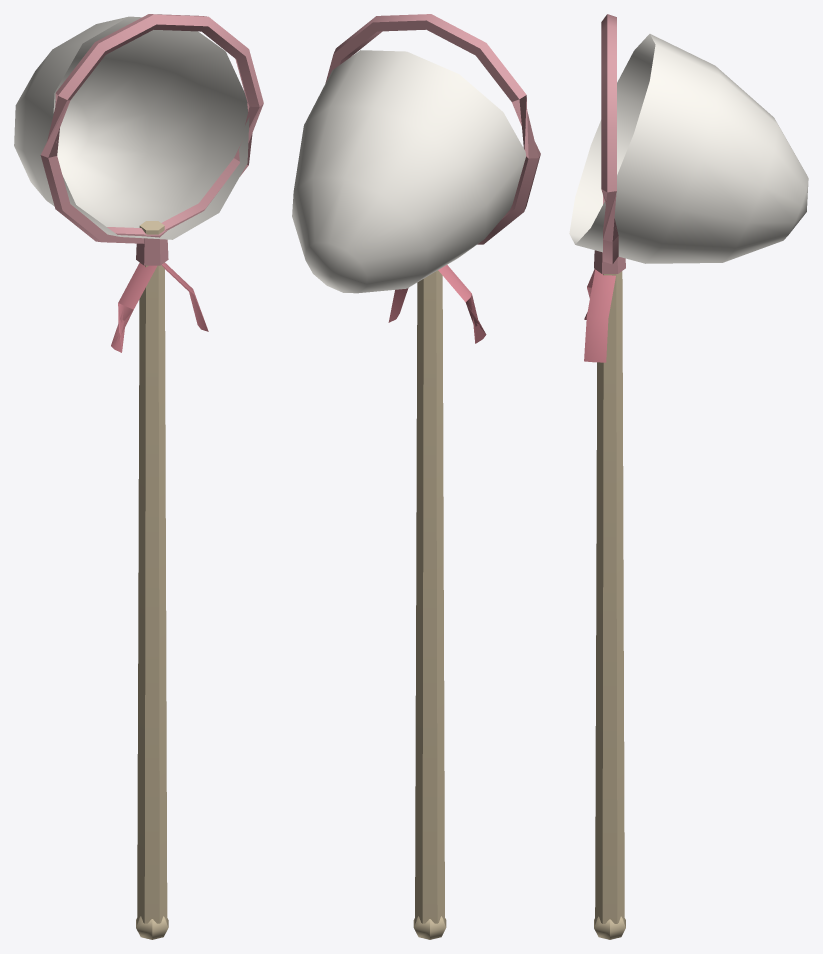
The model's file is net-3.glb.
The picture shows the model from 3 angles, left to right: view 1: azimuth 30°, elevation 25°; view 2: azimuth 150°, elevation 25°; view 3: azimuth 270°, elevation 25°; orthographic projection.
Visible parts, largest first — view 1: net-3; view 2: net-3; view 3: net-3.
Boxes of the visible parts, x1,y1,x2,y2 form: net-3: [14, 14, 263, 939]; net-3: [292, 14, 540, 939]; net-3: [569, 14, 808, 939].
Size of the model in its own units: 0.2033 by 0.8147 by 0.1934.
